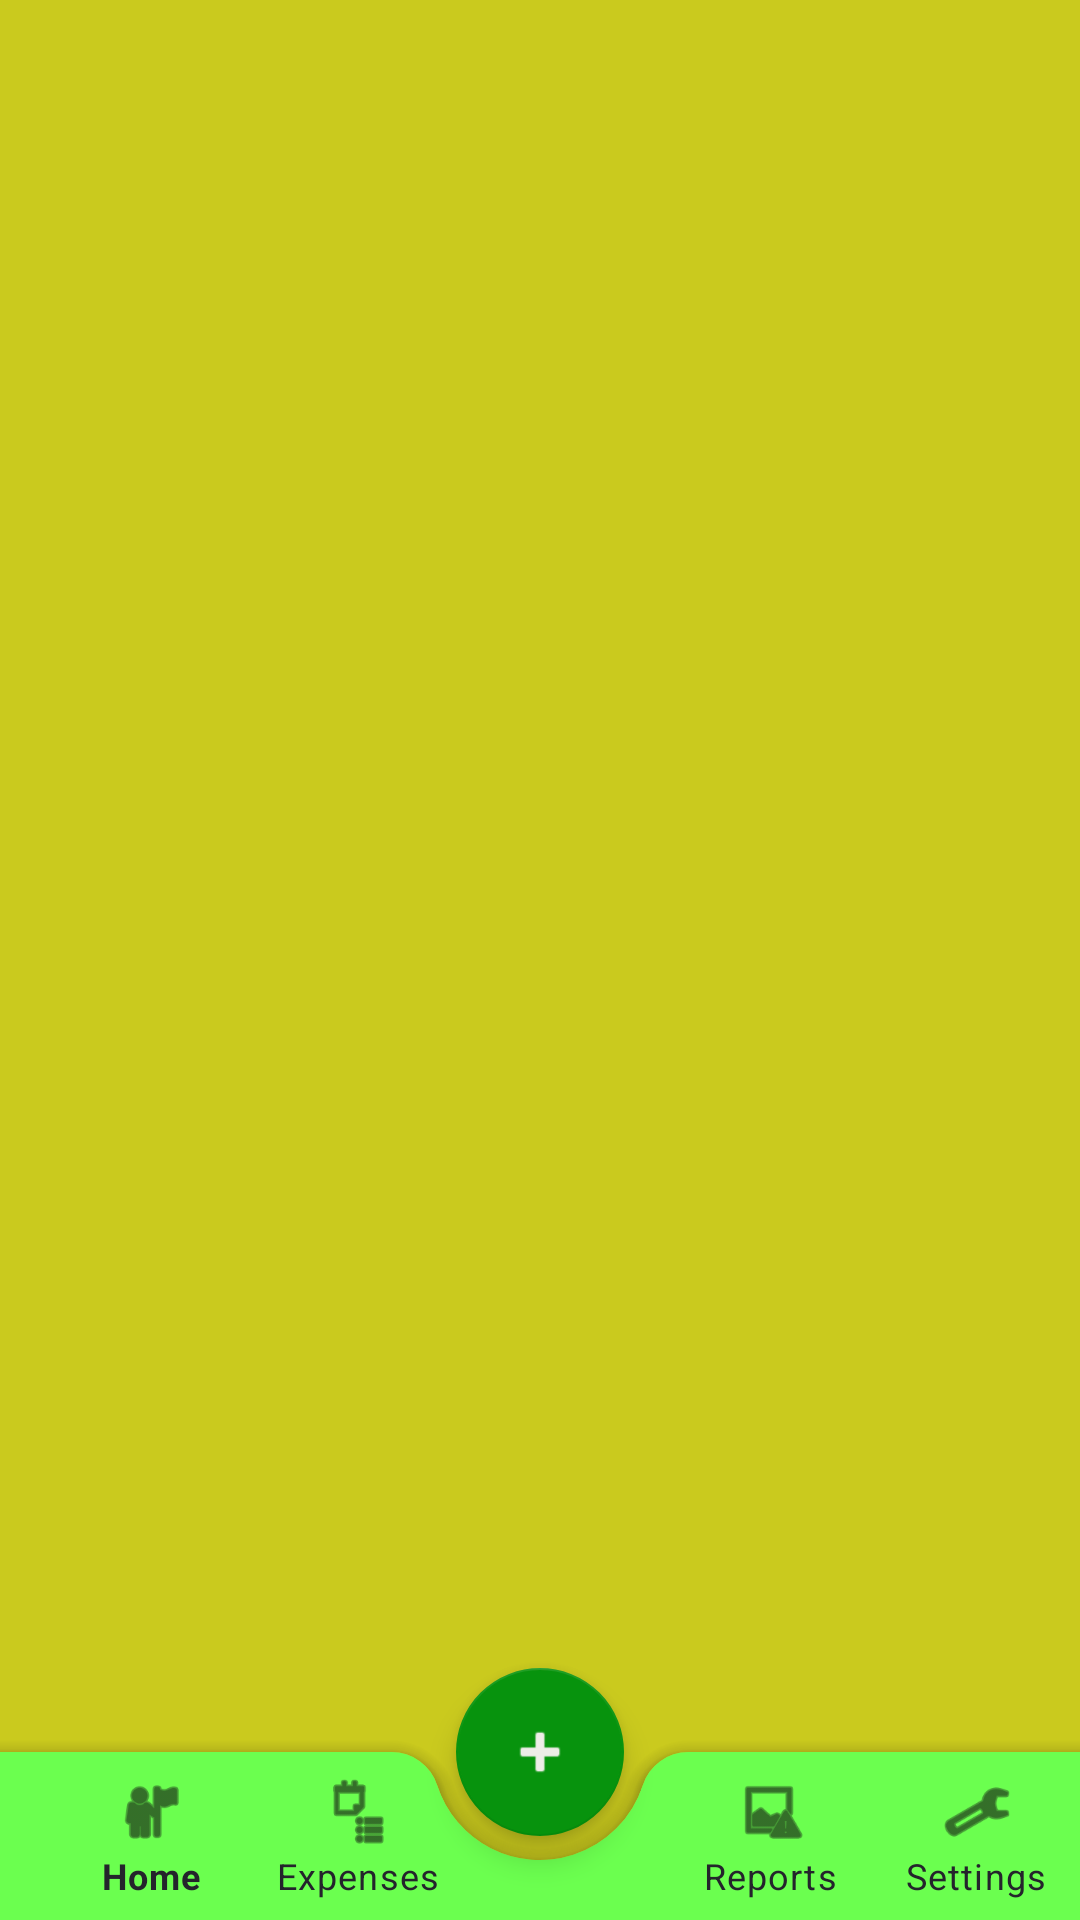

Named icons in this screenshot (1080px×1920px) and their centers, [x,y]:
Add Transaction: [540,1752]
